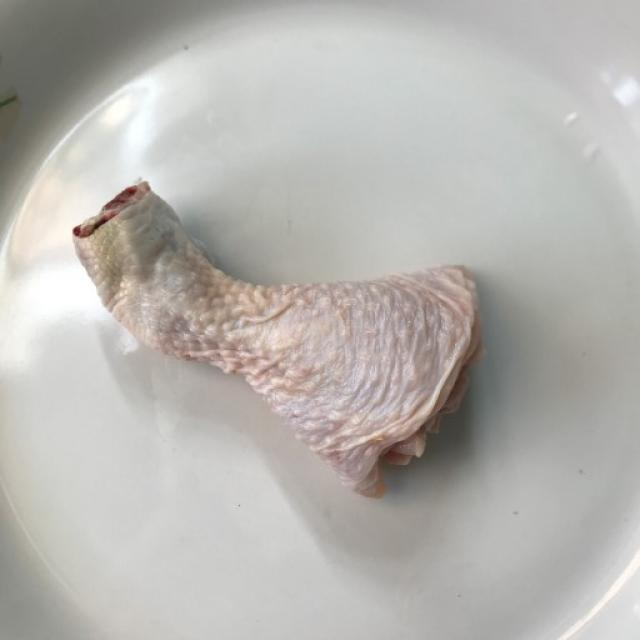Chicken: (49, 149, 500, 533)
